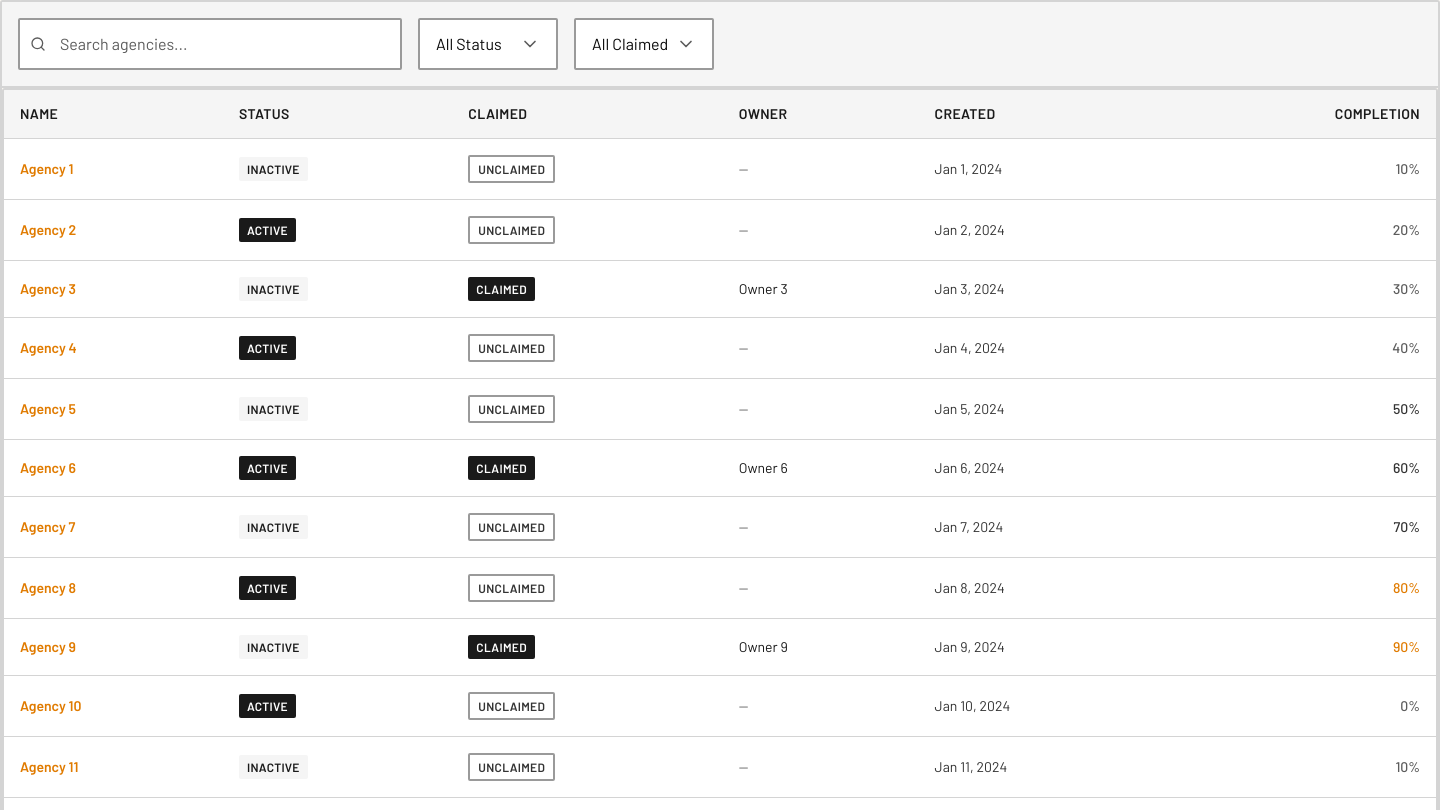
AdminAgenciesTable › Pagination › handles empty results correctly
Note: Filter to show no agencies
Type "NonExistent" into the field with test id "agency-search-input" at (210, 44), box [18,18,402,70]
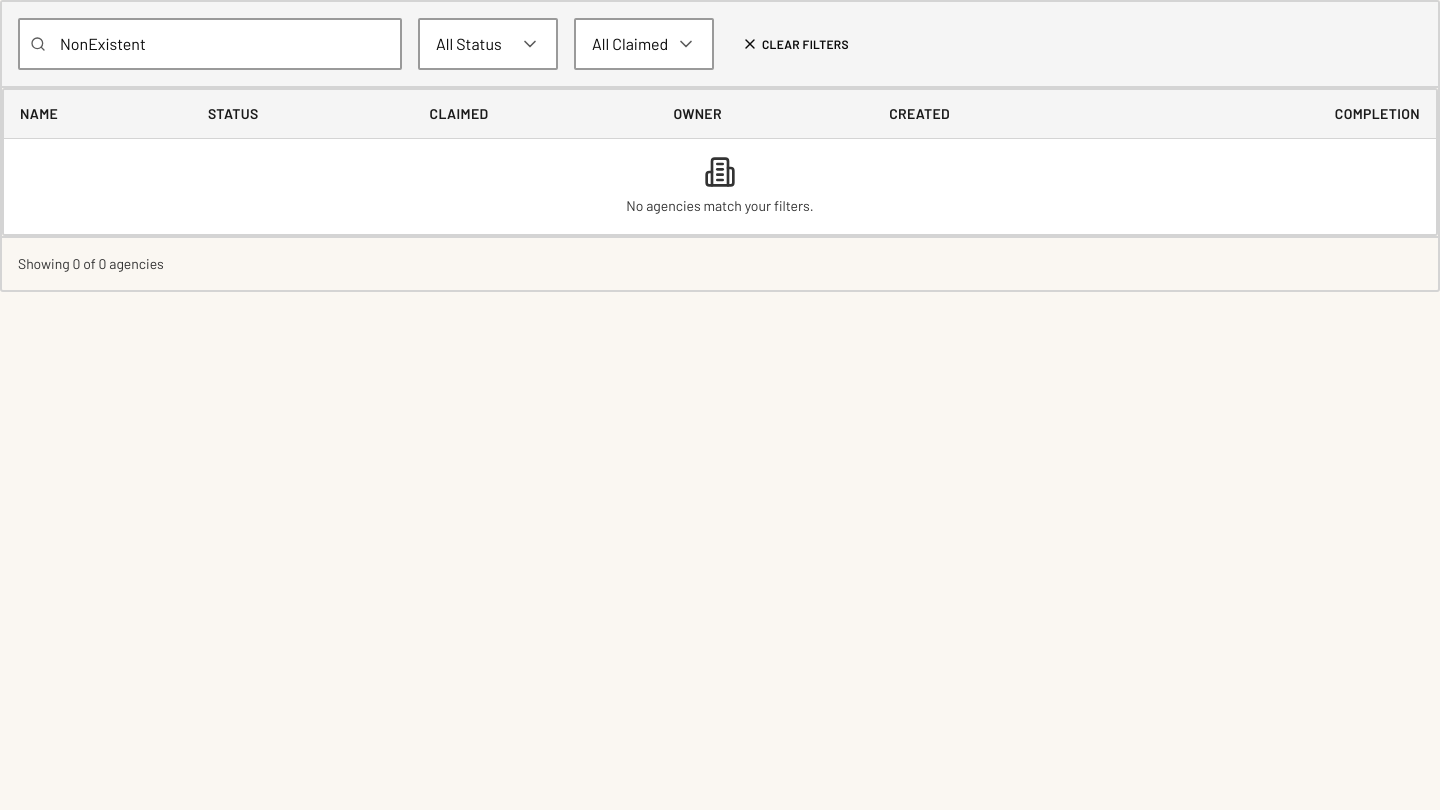
Now the text with test id "agencies-count" reads "Showing 0 of 0 agencies", box [18,255,164,272]
